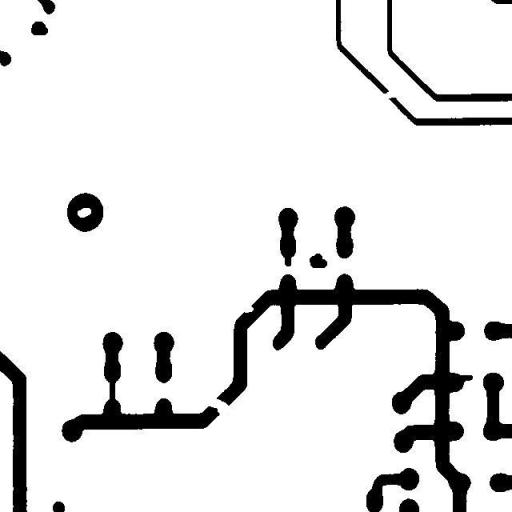copper: (302, 246, 334, 275), (23, 14, 55, 42)
mousebite: (236, 298, 261, 320)
open: (198, 390, 238, 422), (374, 82, 404, 106)
pin-hole: (70, 200, 98, 225)
short: (102, 371, 123, 410)
spur: (450, 367, 480, 390), (277, 248, 298, 274)
